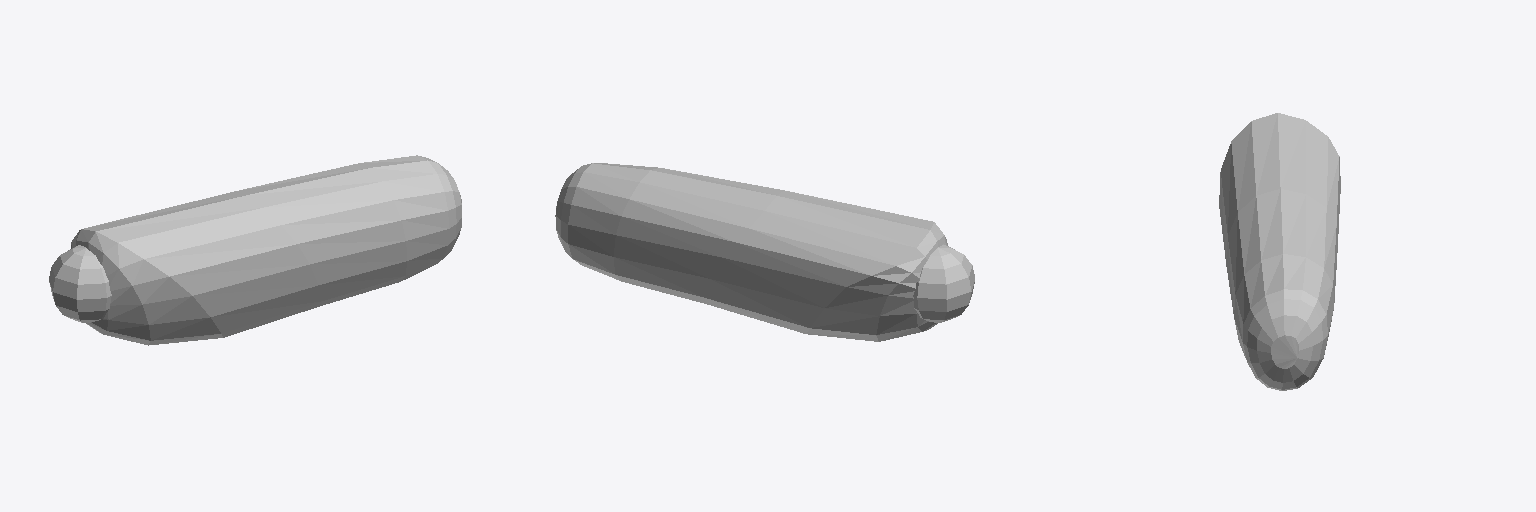
The model's file is 07_armDW_L.obj.
3 renders of one model, left to right at view 1: azimuth 30°, elevation 25°; view 2: azimuth 150°, elevation 25°; view 3: azimuth 270°, elevation 25°, orthographic.
Visible parts, largest first — view 1: armDW_L; view 2: armDW_L; view 3: armDW_L.
Boxes of the visible parts, x1,y1,x2,y2 form: armDW_L: [49, 155, 461, 345]; armDW_L: [555, 163, 974, 341]; armDW_L: [1219, 113, 1340, 390].
Size of the model in its own units: 1.58 by 0.4783 by 0.409.